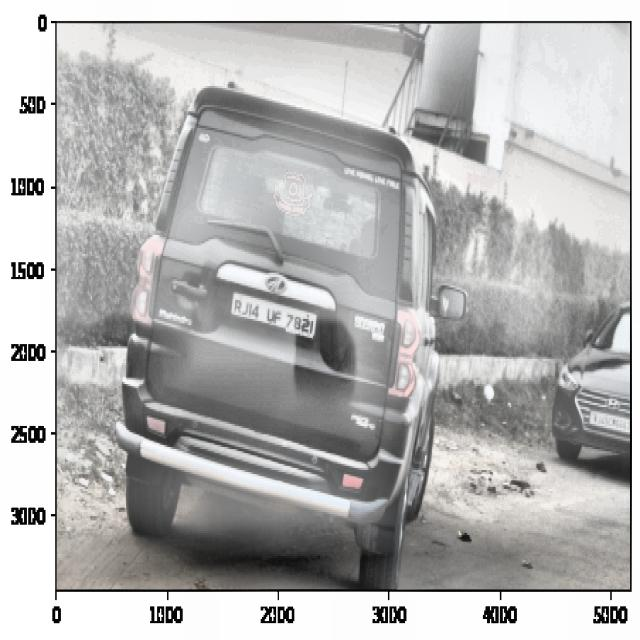license_plate: (230, 293, 316, 338)
